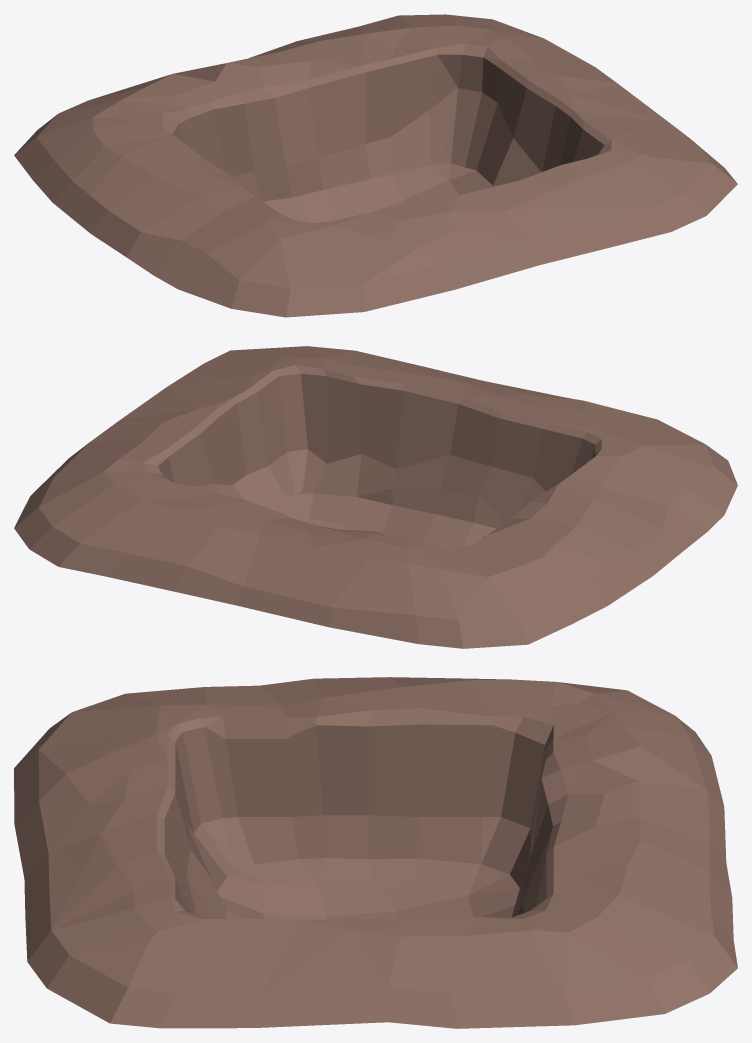
The model's file is Hill_019.fbx.
The picture shows the model from 3 angles, top to bottom: view 1: azimuth 30°, elevation 25°; view 2: azimuth 150°, elevation 25°; view 3: azimuth 270°, elevation 25°; orthographic projection. The views are drawn at different scales.
Parts seen in each view (by area): view 1: Hill_019; view 2: Hill_019; view 3: Hill_019.
Boxes of the visible parts, box(x1,y1,x2,y2) form: Hill_019: box(14, 14, 737, 317); Hill_019: box(14, 346, 737, 648); Hill_019: box(14, 677, 737, 1028).
Bounding box in the file's own units: 255 × 230 × 58.74.
Materials: 1 (1 with a texture image).
